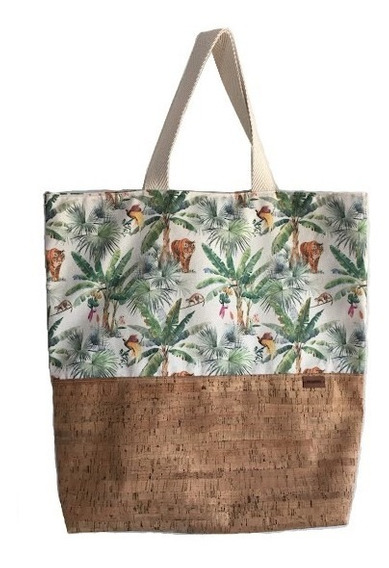cartera: (41, 28, 370, 536)
